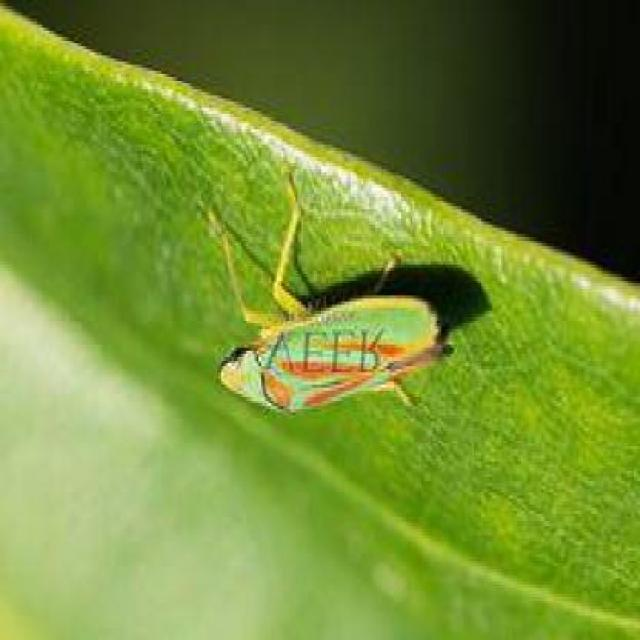green-leafhopper: (209, 168, 440, 415)
